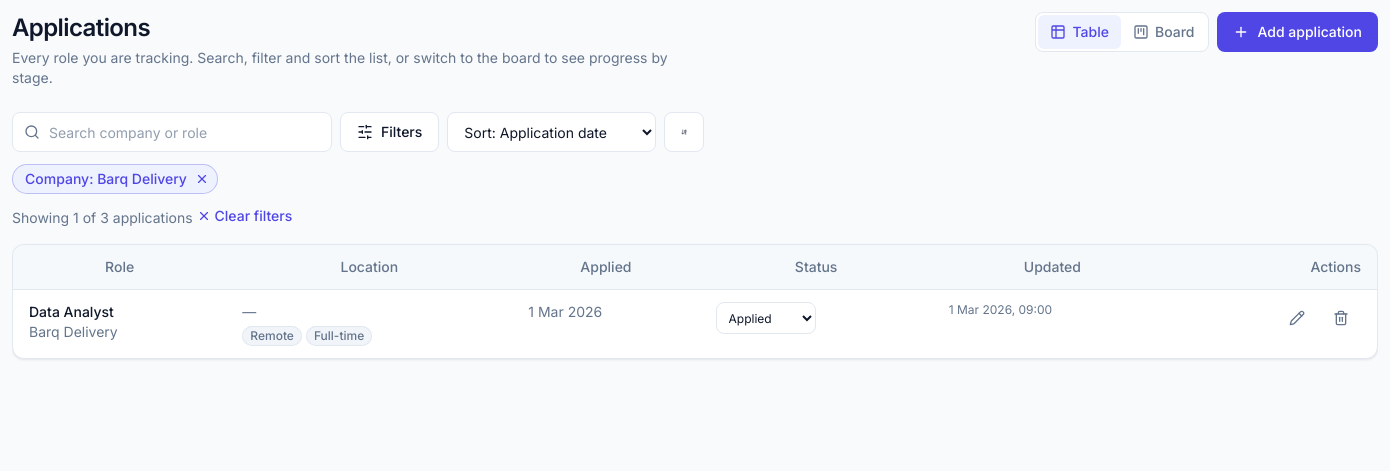
the company filter on the applications page › shows only that company, and can be cleared
The image size is (1390, 471).
Expected: the text "Showing 1 of 3 applications Clear filters" is shown, 12,206 -> 292,226
Expected: the text "Company: Barq Delivery" is shown, 12,164 -> 218,194
Click the button named "show all companies": (202, 179) 193,170 -> 211,188
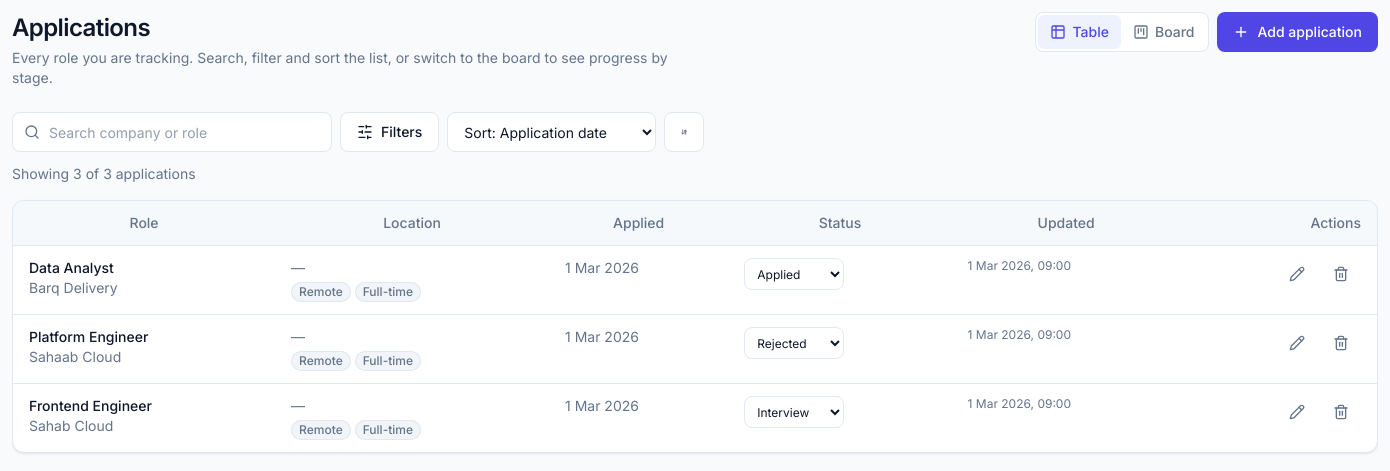
Result: the text "Showing 3 of 3 applications" is shown at 12,165 -> 196,182
